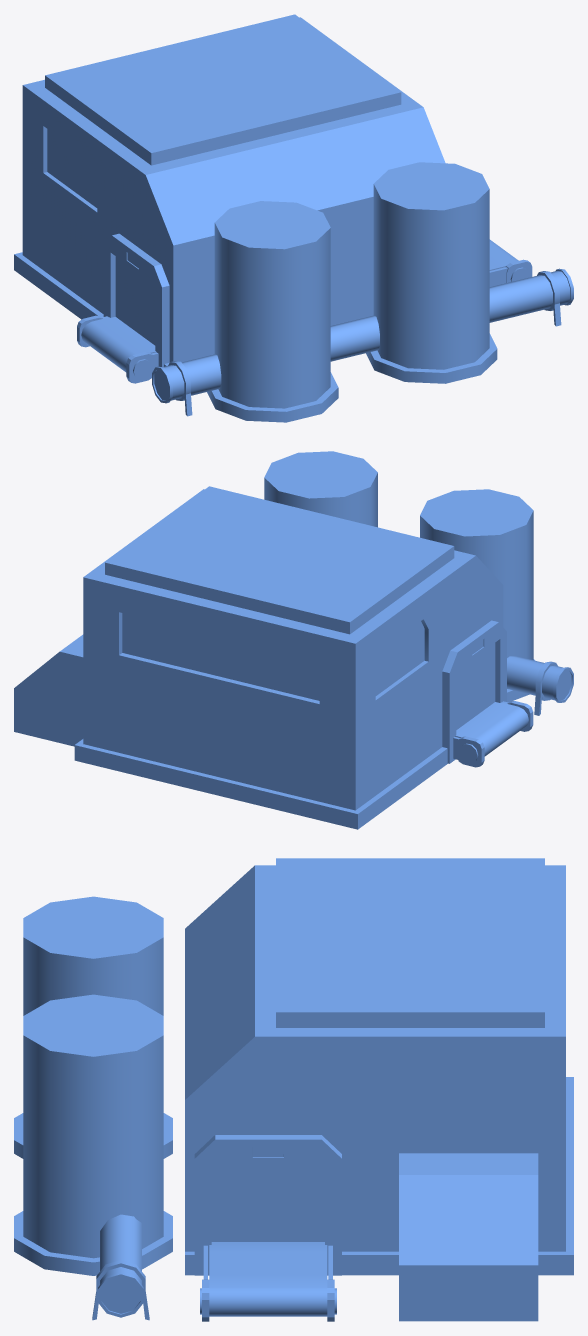
The model's file is Buyer.fbx.
3 renders of one model, top to bottom at view 1: azimuth 30°, elevation 25°; view 2: azimuth 150°, elevation 25°; view 3: azimuth 270°, elevation 25°, orthographic. The views are drawn at different scales.
Visible parts, largest first — view 1: Buyer; view 2: Buyer; view 3: Buyer.
Part boxes in pixels (bbox=[...]): Buyer: bbox=[14, 14, 573, 422]; Buyer: bbox=[14, 451, 573, 829]; Buyer: bbox=[14, 858, 573, 1321].
Size of the model in its own units: 400 by 190 by 380.
